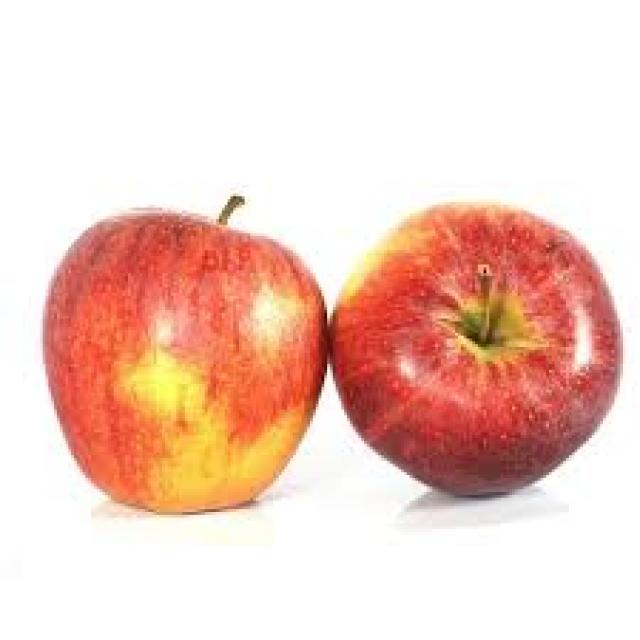apple: (35, 193, 334, 522)
